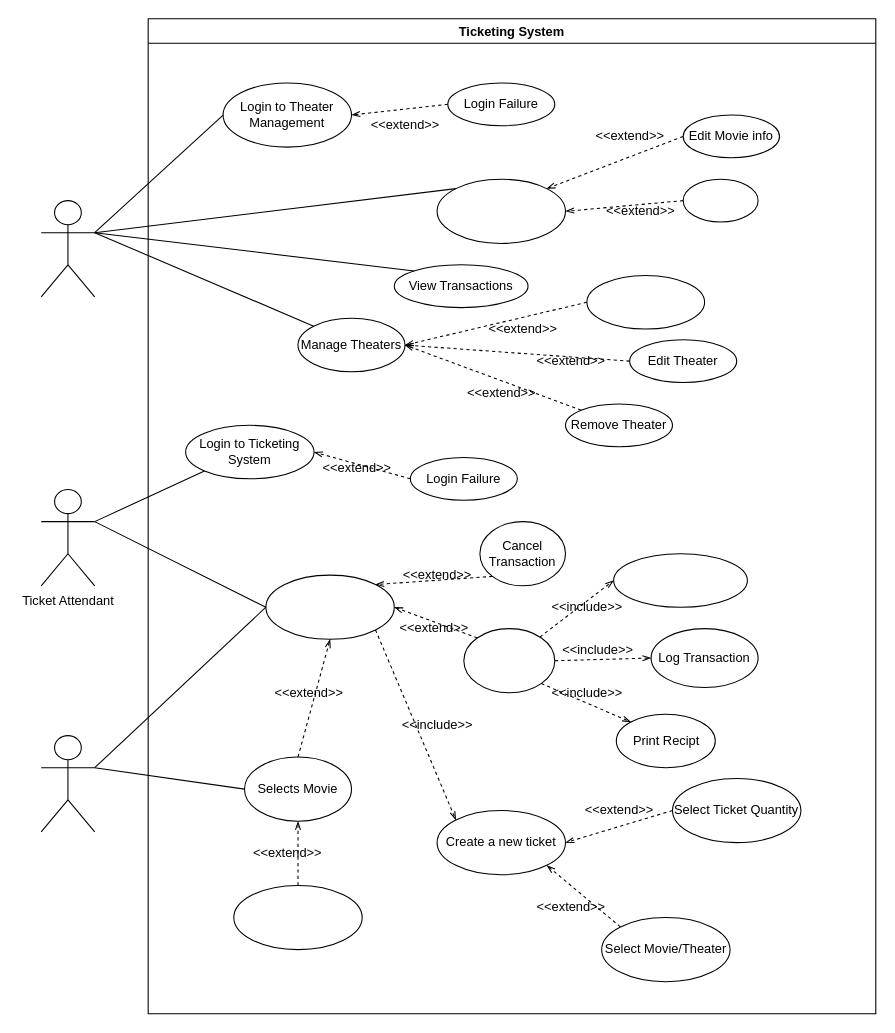
This 895x1033 diagram has some shape labels left out. Here are the shapes that lost their labels. From the top down, the centre of each, then its label:
the point at 500,210: Manage Movies
the point at 720,200: Add Movie
the point at 67,248: Theater Manager
the point at 645,301: Create New Theater
the point at 680,580: Print Transaction Tickets
the point at 329,606: Create Transcation
the point at 509,660: Complete Transaction
the point at 67,783: Customer
the point at 297,917: Verify Age if Movie is R Rated
